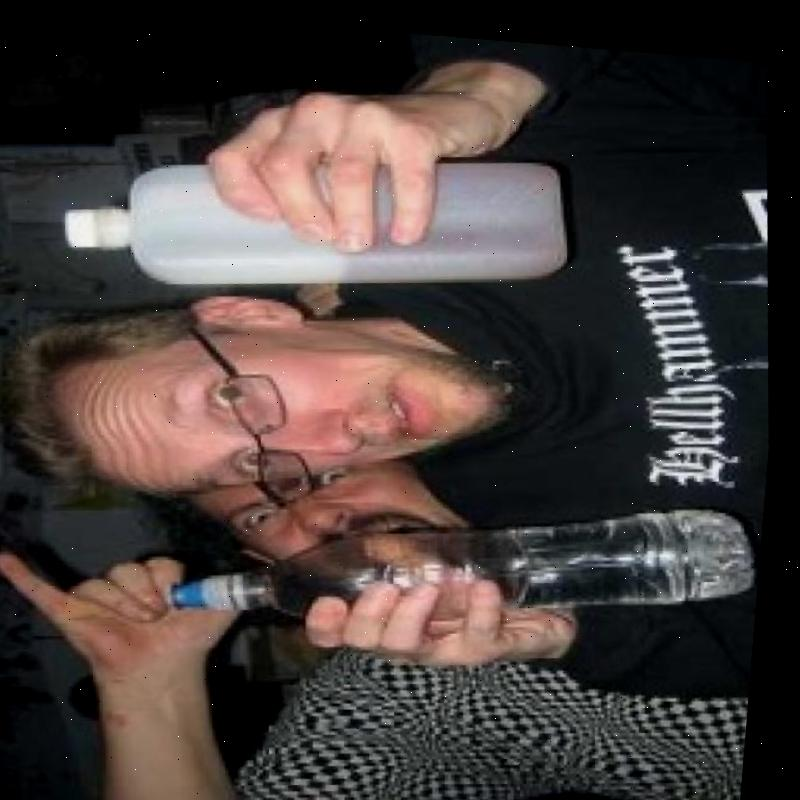botella: (170, 454, 772, 662)
